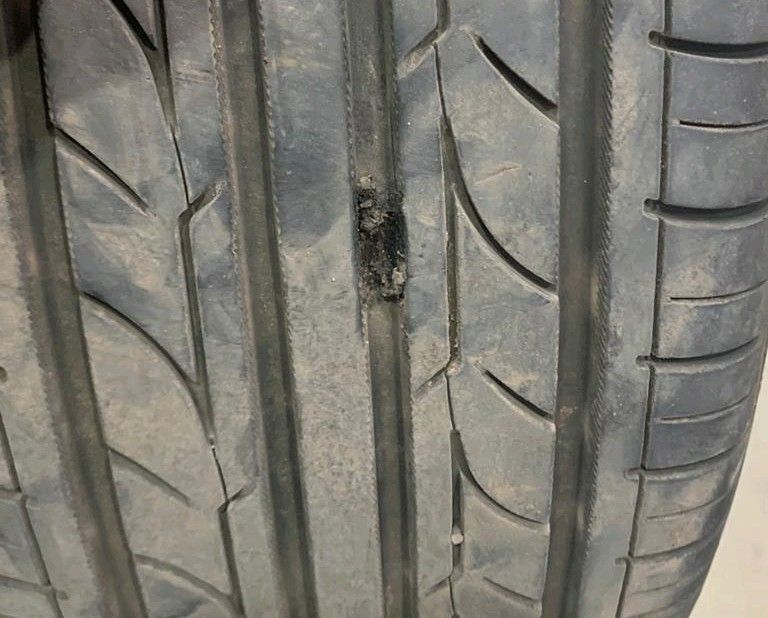tr: (351, 180, 413, 343)
